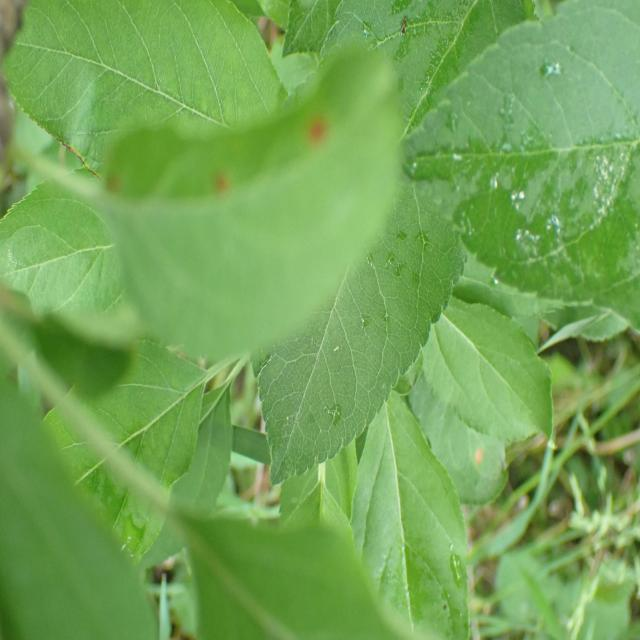Black Rot: (296, 101, 348, 160), (98, 144, 133, 228), (467, 420, 497, 498), (198, 152, 242, 200)
